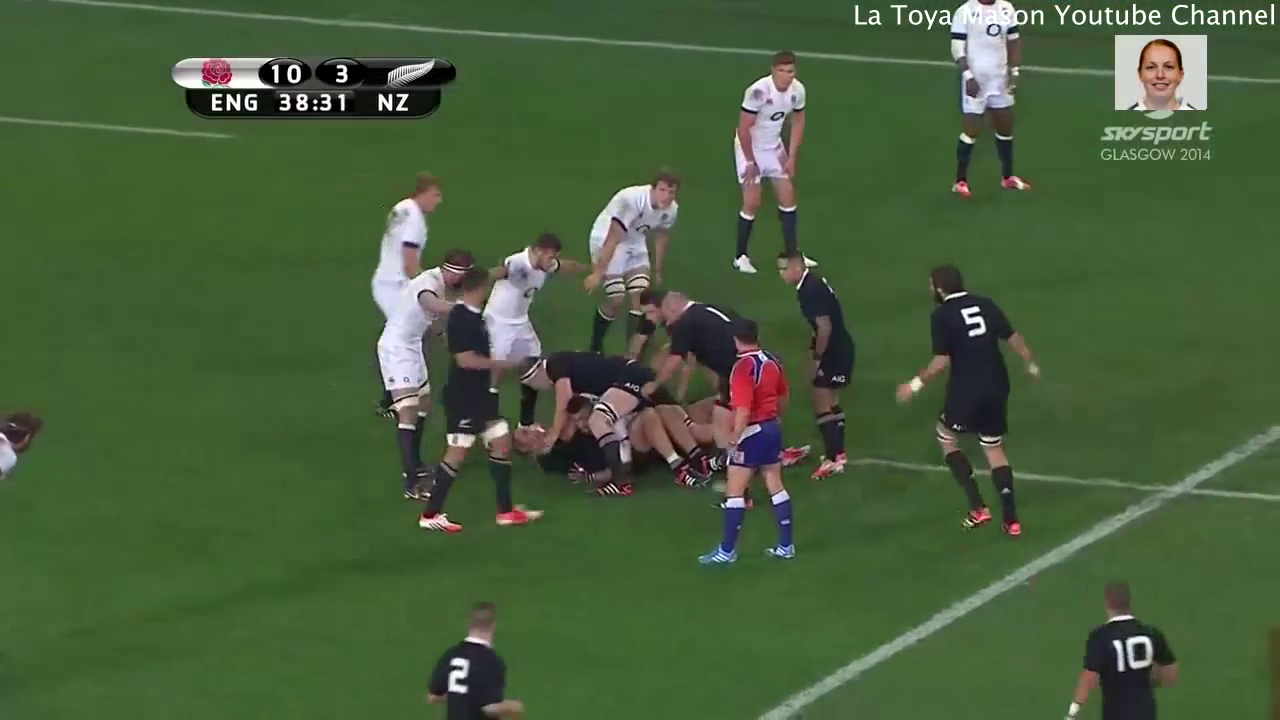player: (883, 259, 1060, 548), (422, 267, 543, 540), (687, 310, 804, 570), (472, 232, 593, 460), (374, 244, 477, 500), (727, 44, 836, 281), (768, 248, 873, 486), (933, 1, 1044, 201), (579, 168, 693, 356), (647, 288, 743, 507), (1058, 571, 1180, 720), (422, 601, 531, 720), (373, 165, 449, 324)
ruck: (490, 314, 782, 496)
